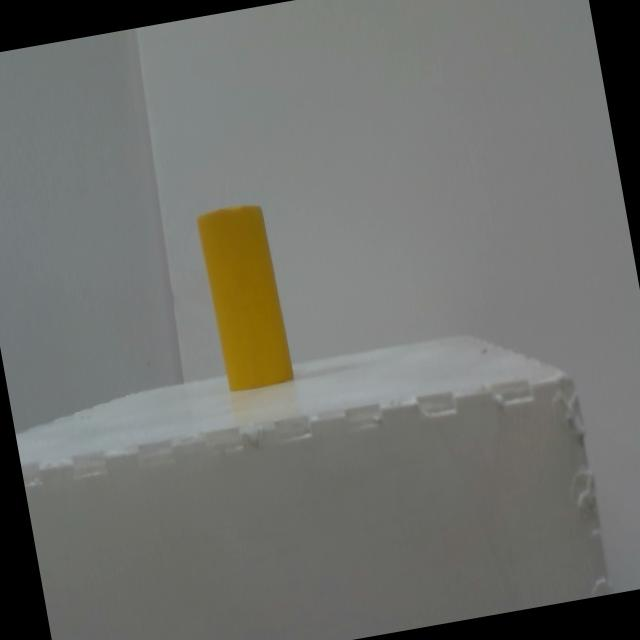yellow_cylinder: (198, 202, 292, 392)
